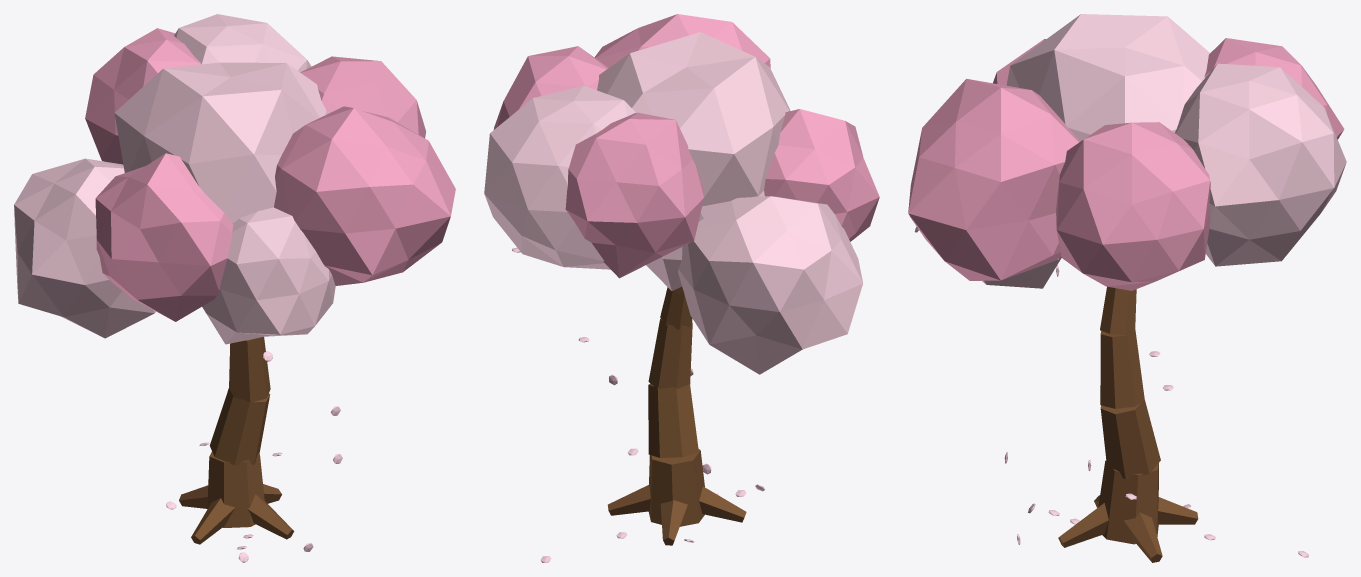
File: nat_blossom_v01.glb
3 views of the same model, side by side, from view 1: azimuth 30°, elevation 25°; view 2: azimuth 150°, elevation 25°; view 3: azimuth 270°, elevation 25° (orthographic). The views are drawn at different scales.
Visible parts, largest first — view 1: tree; view 2: tree; view 3: tree.
Part boxes in pixels (left/top/right/bottom): tree: left=14, top=14, right=455, bottom=562; tree: left=484, top=14, right=879, bottom=562; tree: left=908, top=14, right=1346, bottom=562.
Size of the model in its own units: 5.19 by 6.06 by 4.9.
